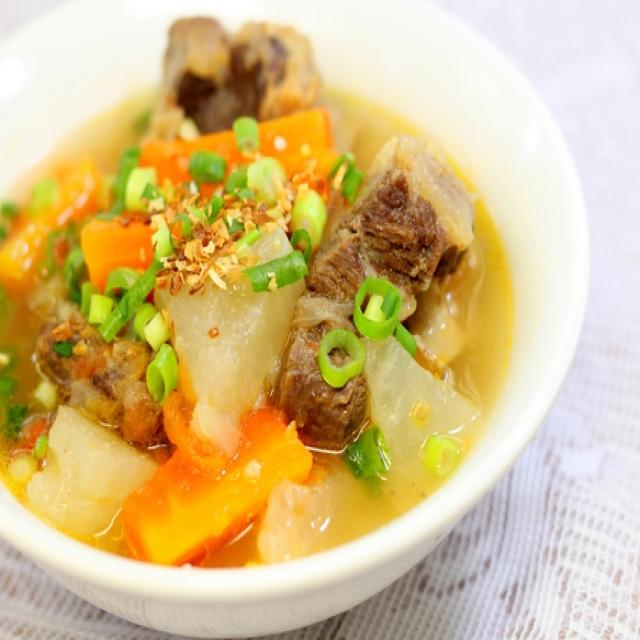汤锅炖物: (11, 21, 580, 604)
